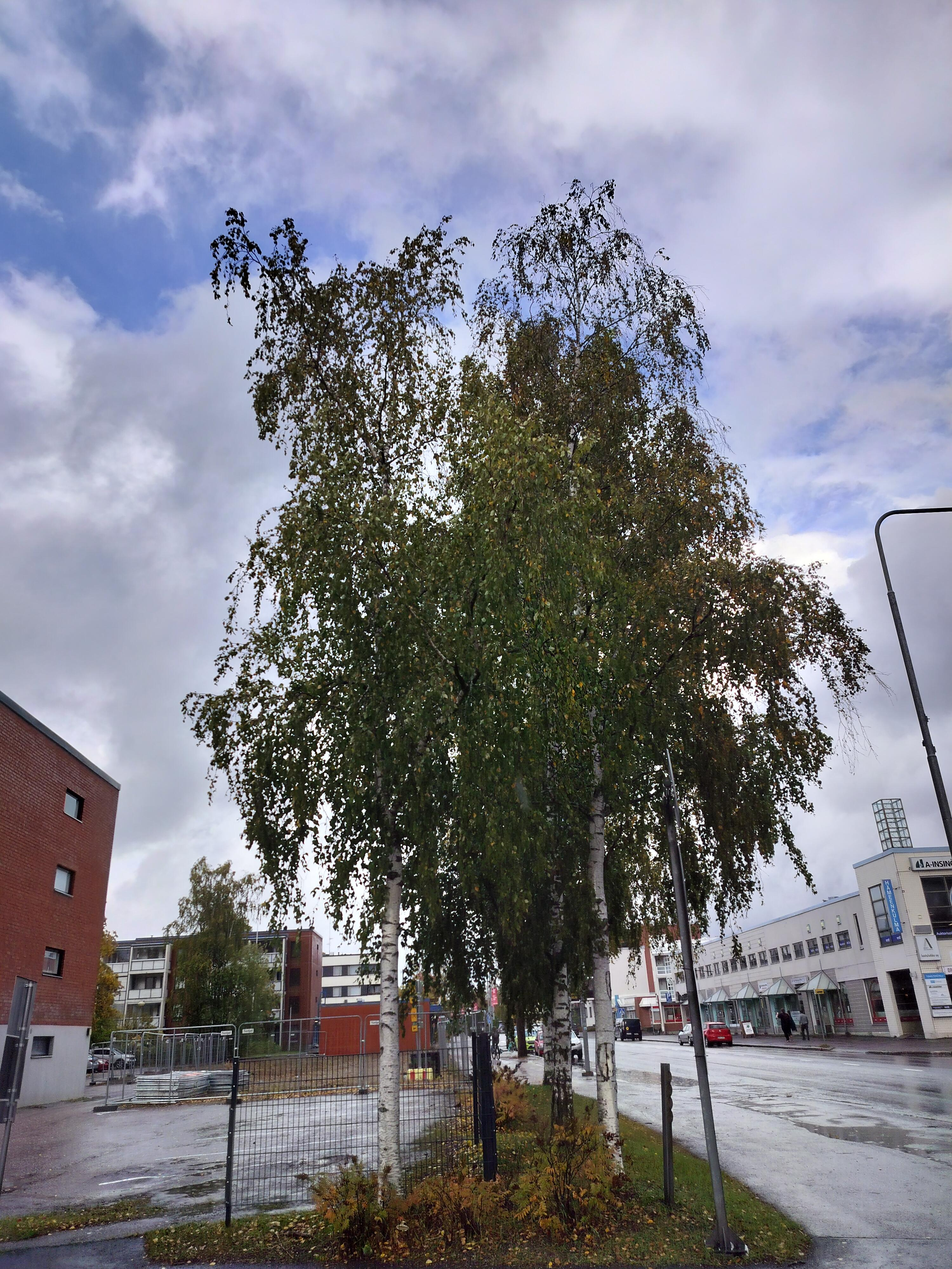Birch: (181, 175, 887, 1216)
